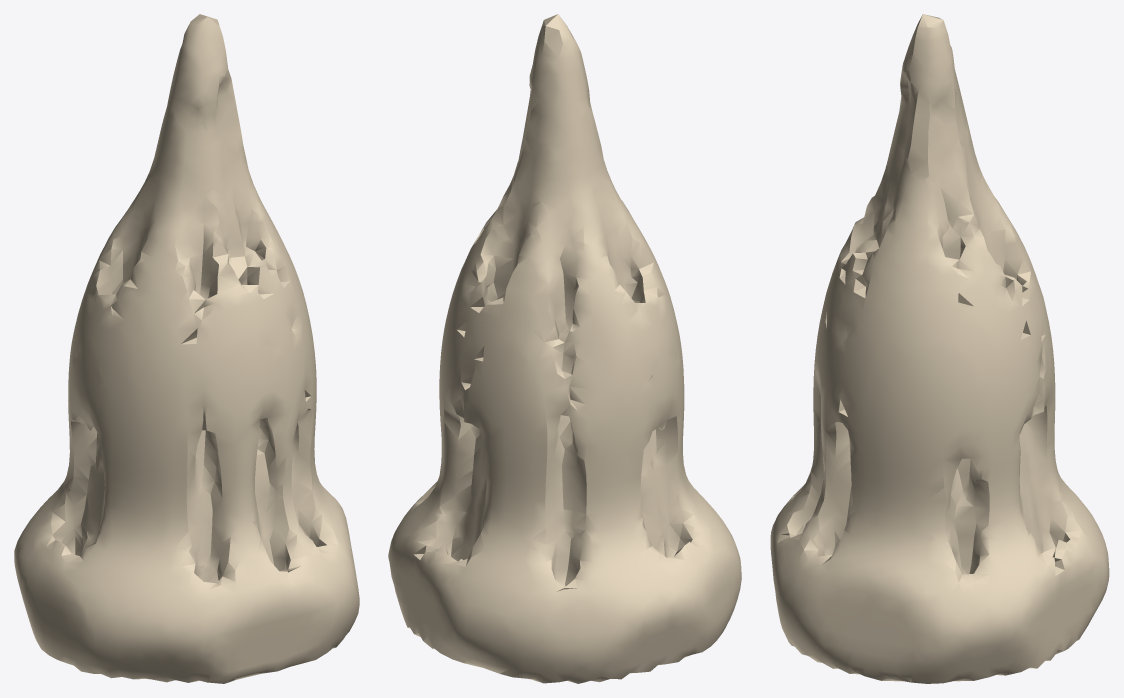
Rendered from chimney-spire.glb.
3 views of the same model, side by side, from view 1: azimuth 30°, elevation 25°; view 2: azimuth 150°, elevation 25°; view 3: azimuth 270°, elevation 25° (orthographic).
Parts seen in each view (by area): view 1: body; view 2: body; view 3: body.
Boxes of the visible parts, x1=… form: body: x1=14, y1=14, x2=359, y2=683; body: x1=388, y1=14, x2=741, y2=683; body: x1=770, y1=14, x2=1109, y2=683.
Bounding box in the file's own units: 6.86 × 12.77 × 6.46.
